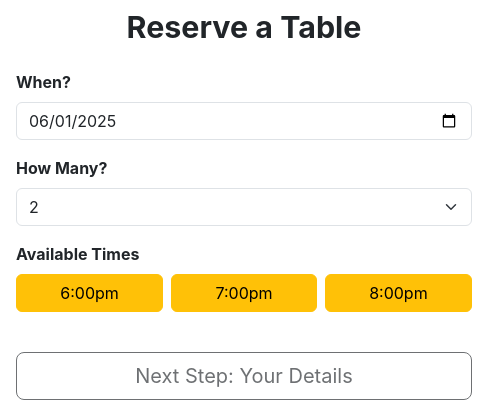
Test case: BookingSection › enables Next button when date and time are selected
The image size is (489, 417).
Step 1. Click the button "6:00pm" → (90, 292), box [16,274,163,312]
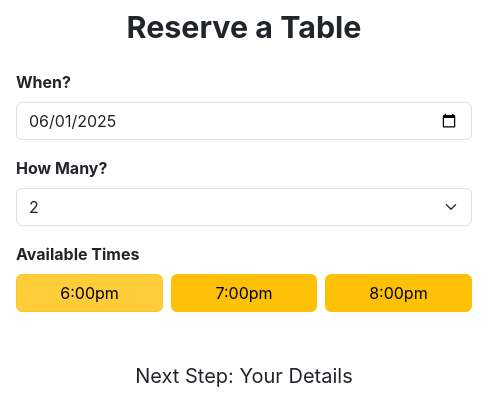
Expected: the button "Next Step: Your Details" is enabled, [16,352,472,400]
